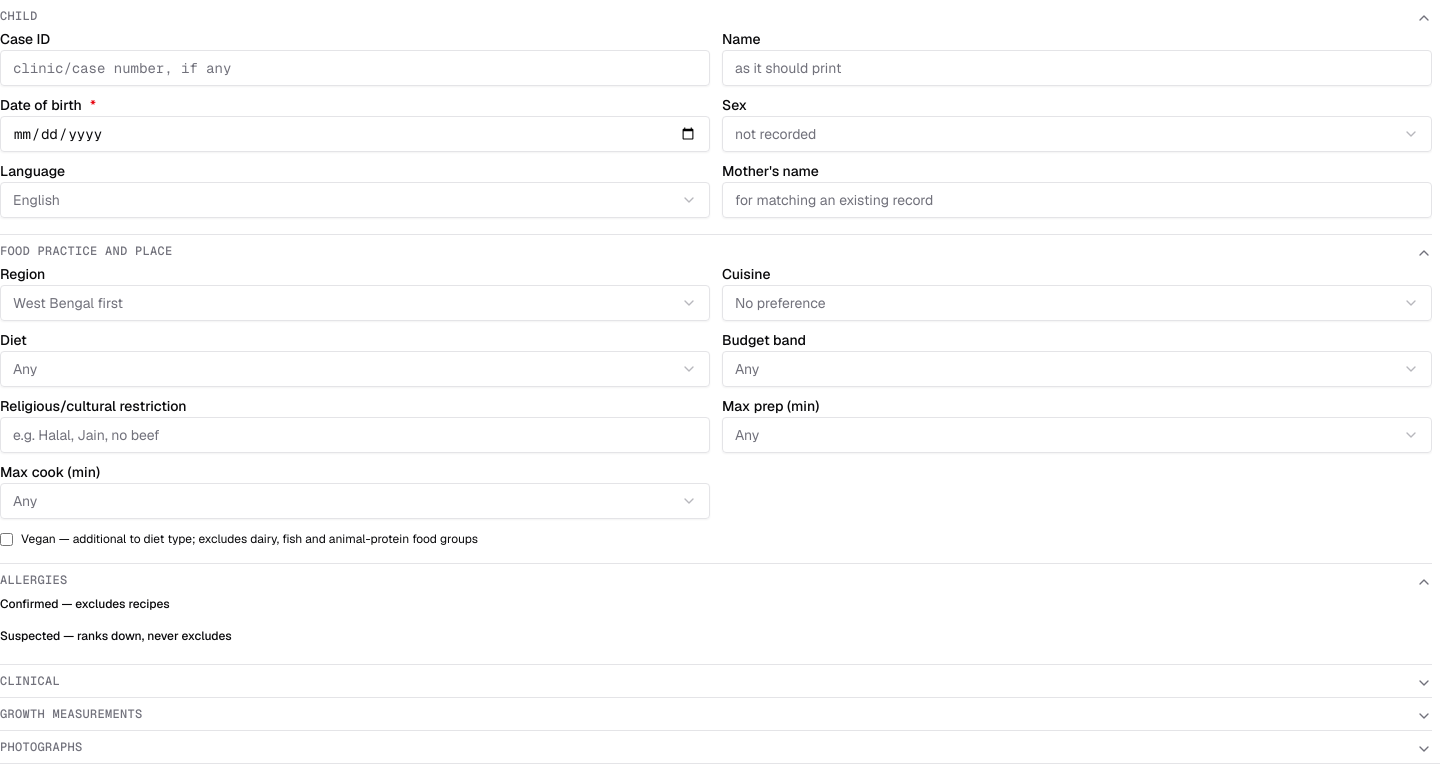
Test case: ChildInputForm › never applies a match to the form until the operator explicitly loads it
Step 1. Type "Aarav" into the field labelled "Name" → (1077, 68), box top-left (722, 50), bottom-right (1432, 86)
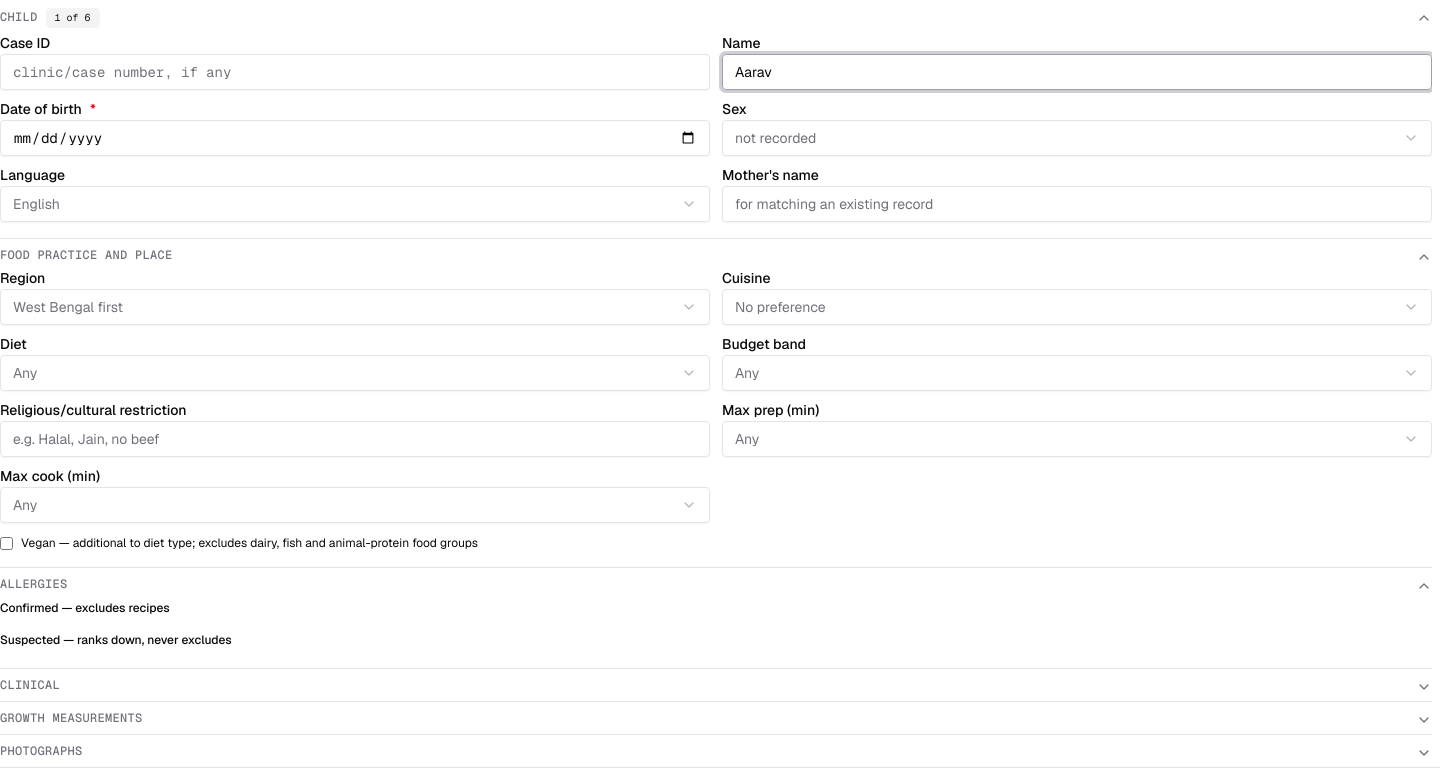
Step 2. Type "CASE-1" into the field labelled "Case ID" → (355, 72), box top-left (0, 54), bottom-right (710, 90)
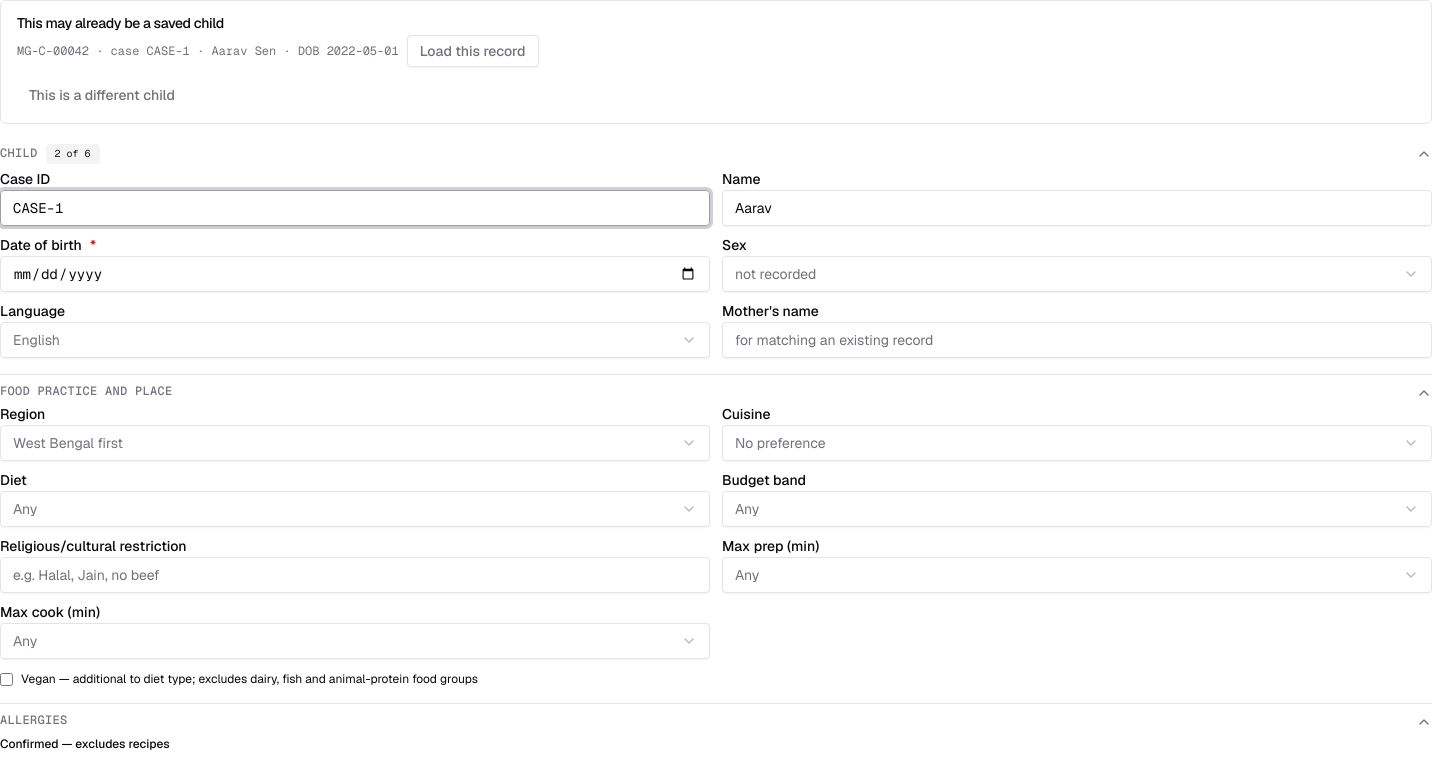
Expected: the text "MG-C-00042 · case CASE-1 · Aarav Sen · DOB 2022-05-01" is shown, top-left (17, 43), bottom-right (399, 59)
Step 3. Click the button "Load this record" → (473, 51), box top-left (407, 35), bottom-right (539, 67)
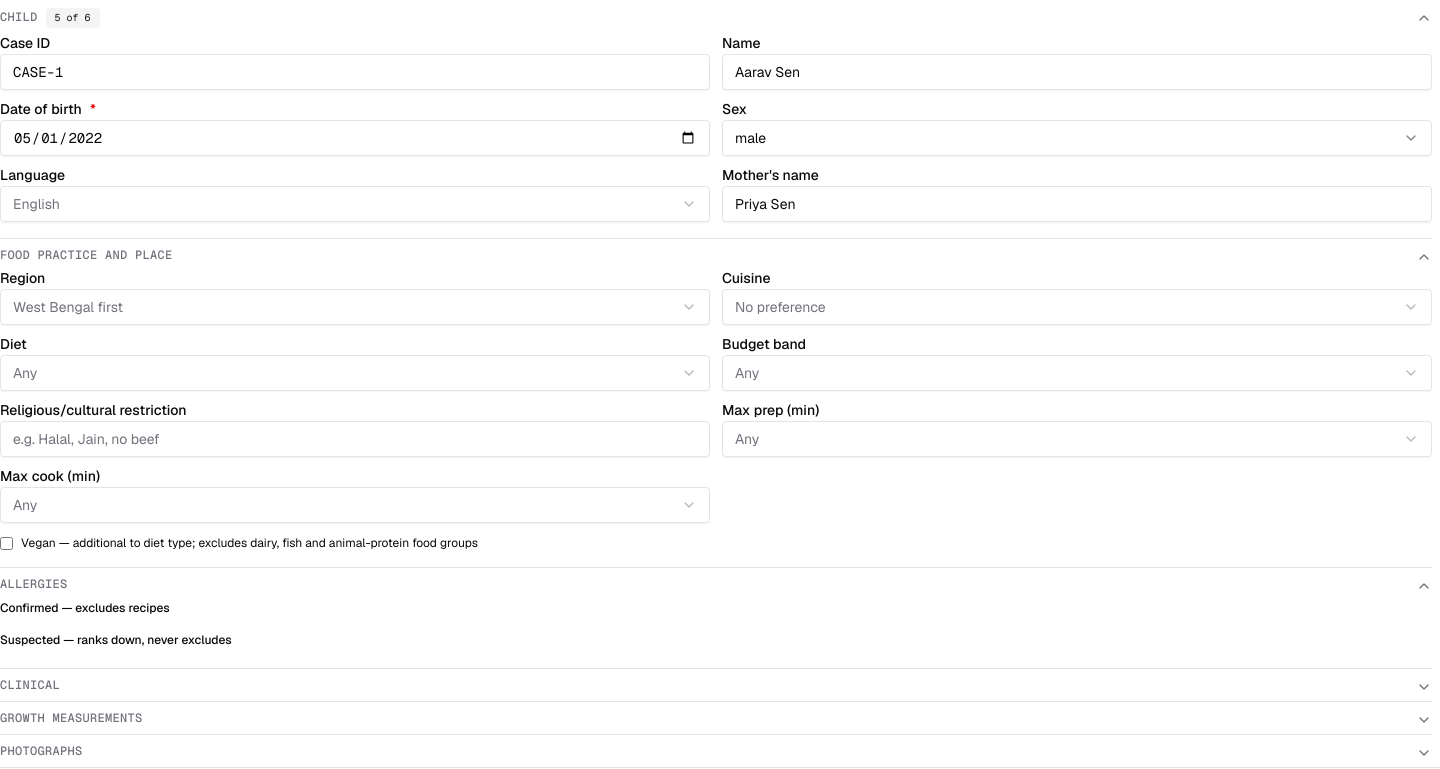
Expected: the field labelled "Name" holds "Aarav Sen", top-left (722, 54), bottom-right (1432, 90)
Expected: the button "Load this record" is gone
